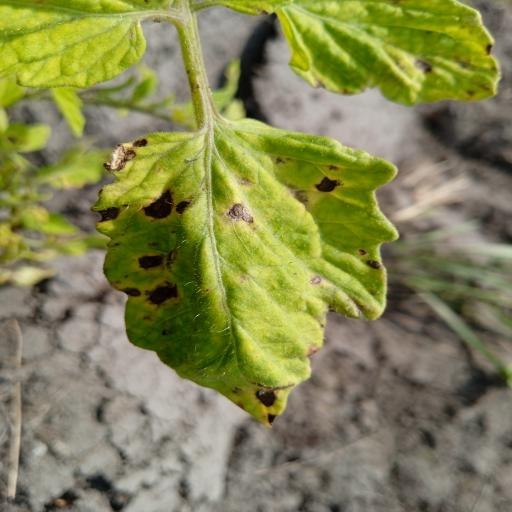Tomato_Brown_Spots: (81, 106, 411, 428)
